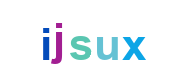I: (6, 0, 86, 80)
J: (18, 0, 98, 80)
S: (52, 0, 132, 80)
U: (56, 0, 136, 80)
X: (94, 0, 174, 80)
